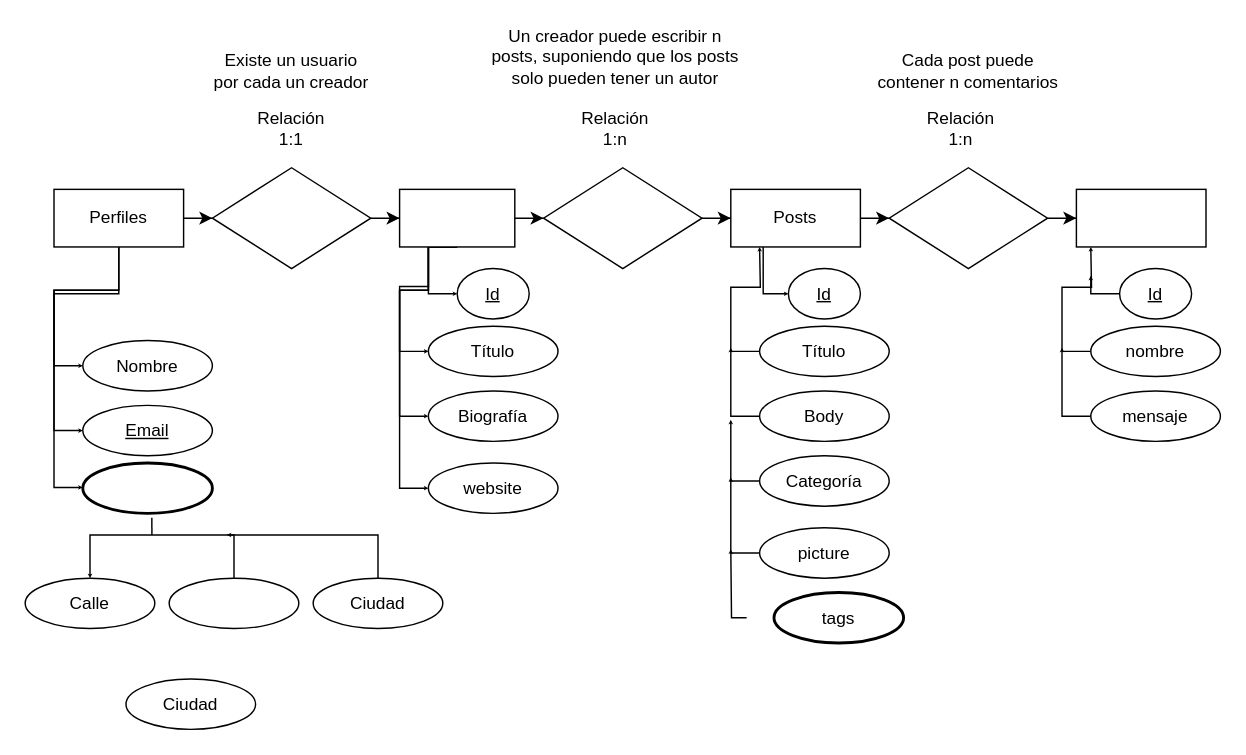
Image size: 1246x755. Some labels were removed from this diagram. Here are the shapes that lost their labels. From the top down, the centre of each, then its label:
At (291,217): "Tiene".
At (456,217): "Usuarios".
At (622,217): "Escriben".
At (968,217): "Contienen".
At (1140,217): "Comentarios".
At (147,487): "Dirección".
At (233,603): "Número".
